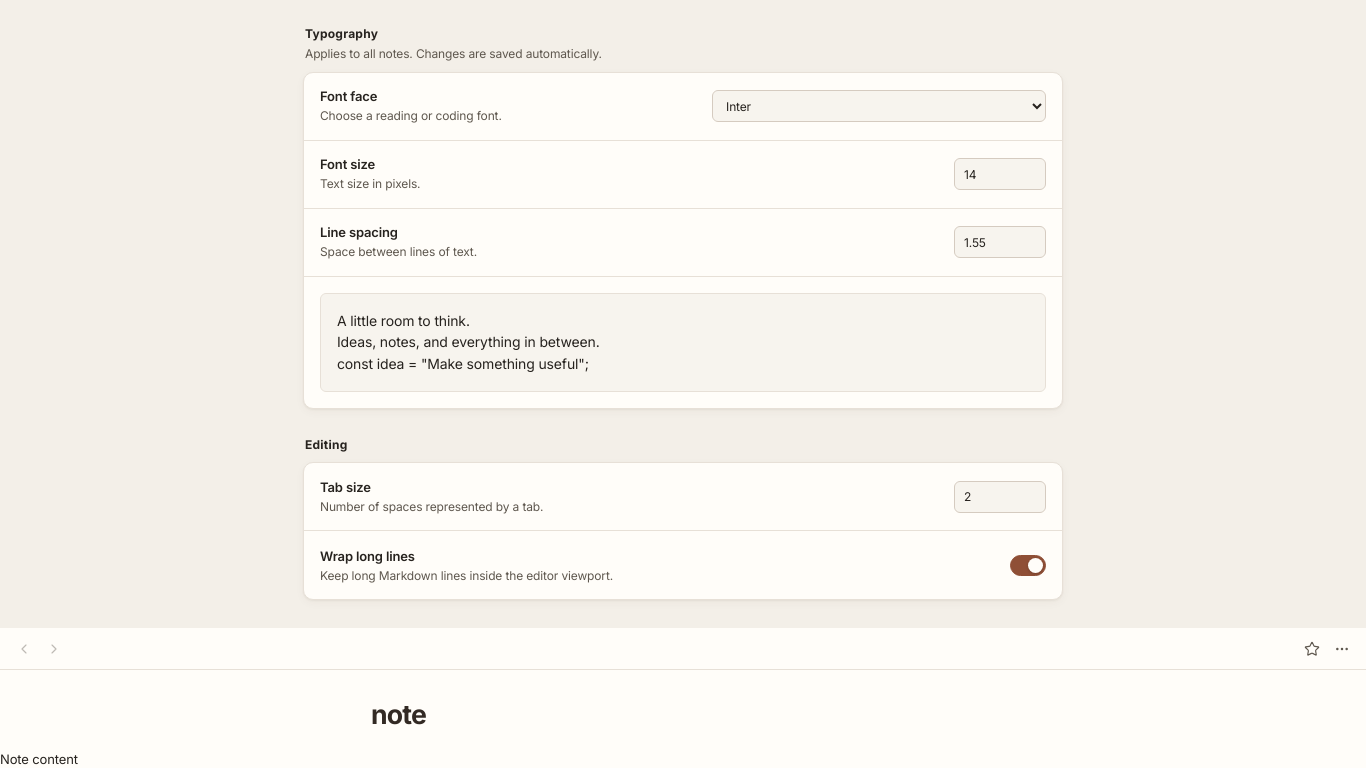
Test: Note typography › restores saved values after empty or out-of-range input without saving them
The width and height of the screenshot is (1366, 768).
(page scrolled)
Clear the number field named "Editor font size" at (1000, 174), box [954,158,1046,190]
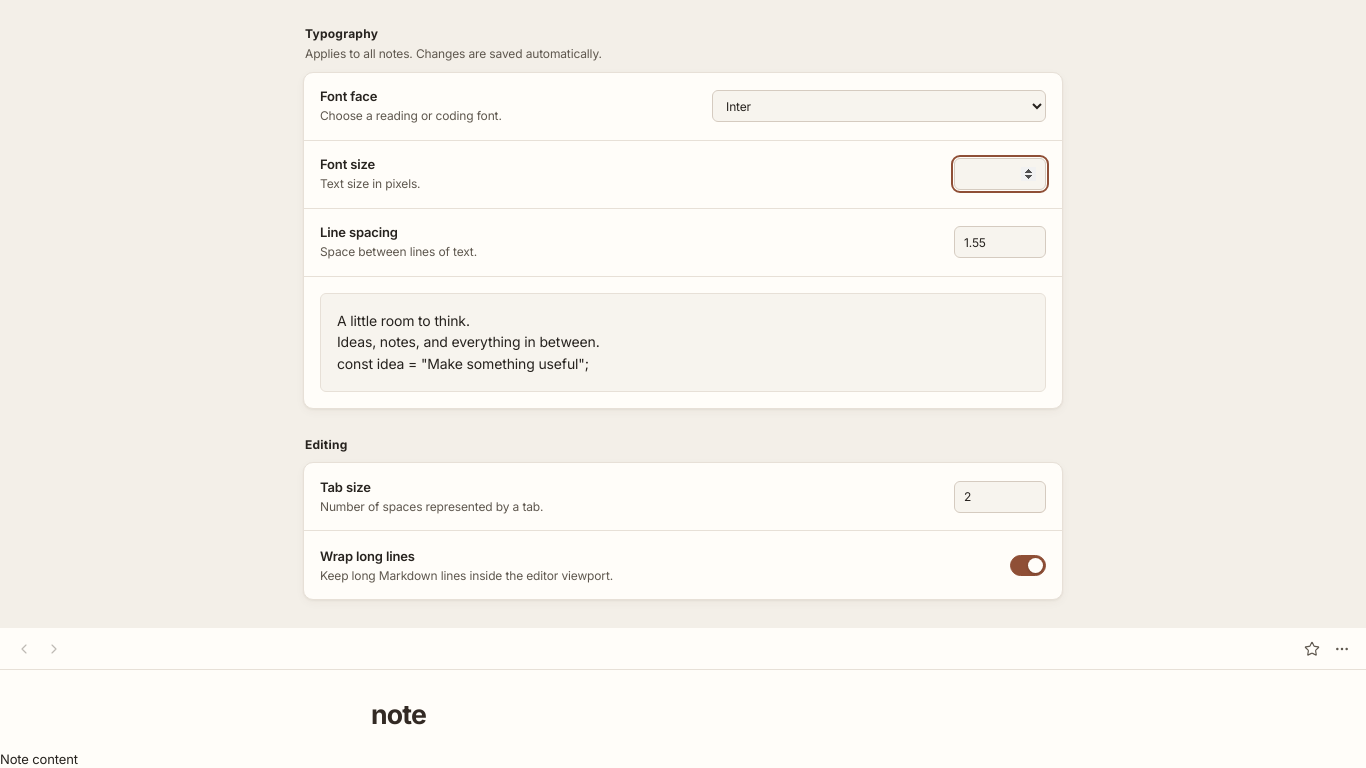
Press Tab
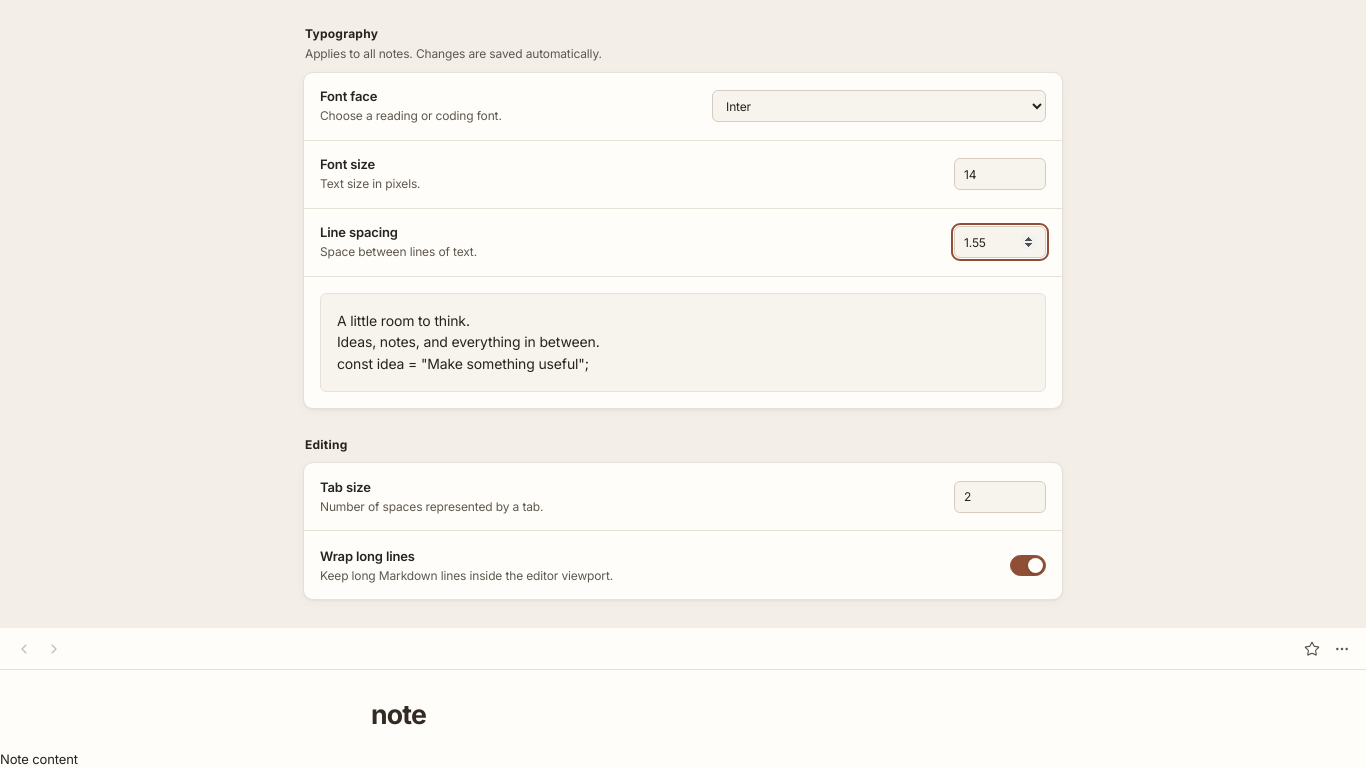
Now the number field named "Editor font size" holds "14"
Replace the text in the number field named "Editor font size" with "99" at (1000, 174), box [954,158,1046,190]
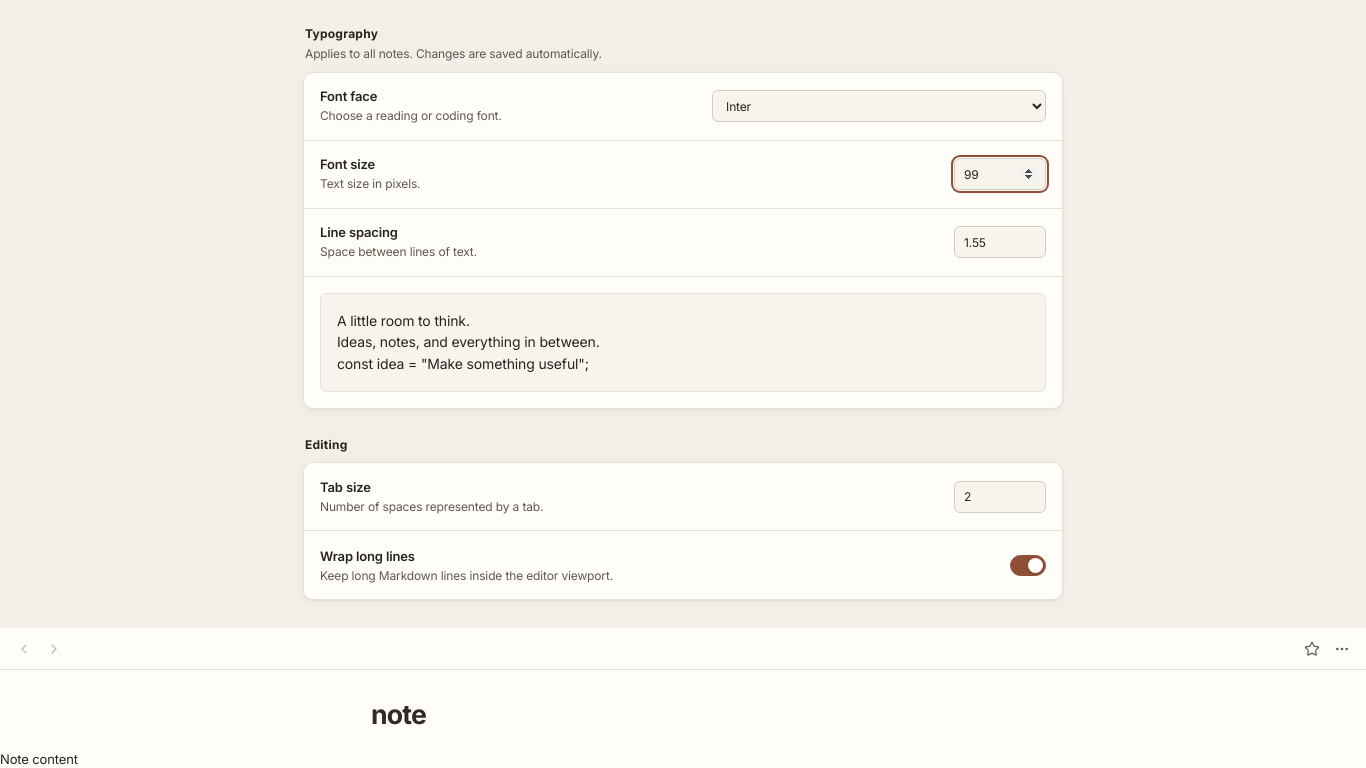
Press Tab
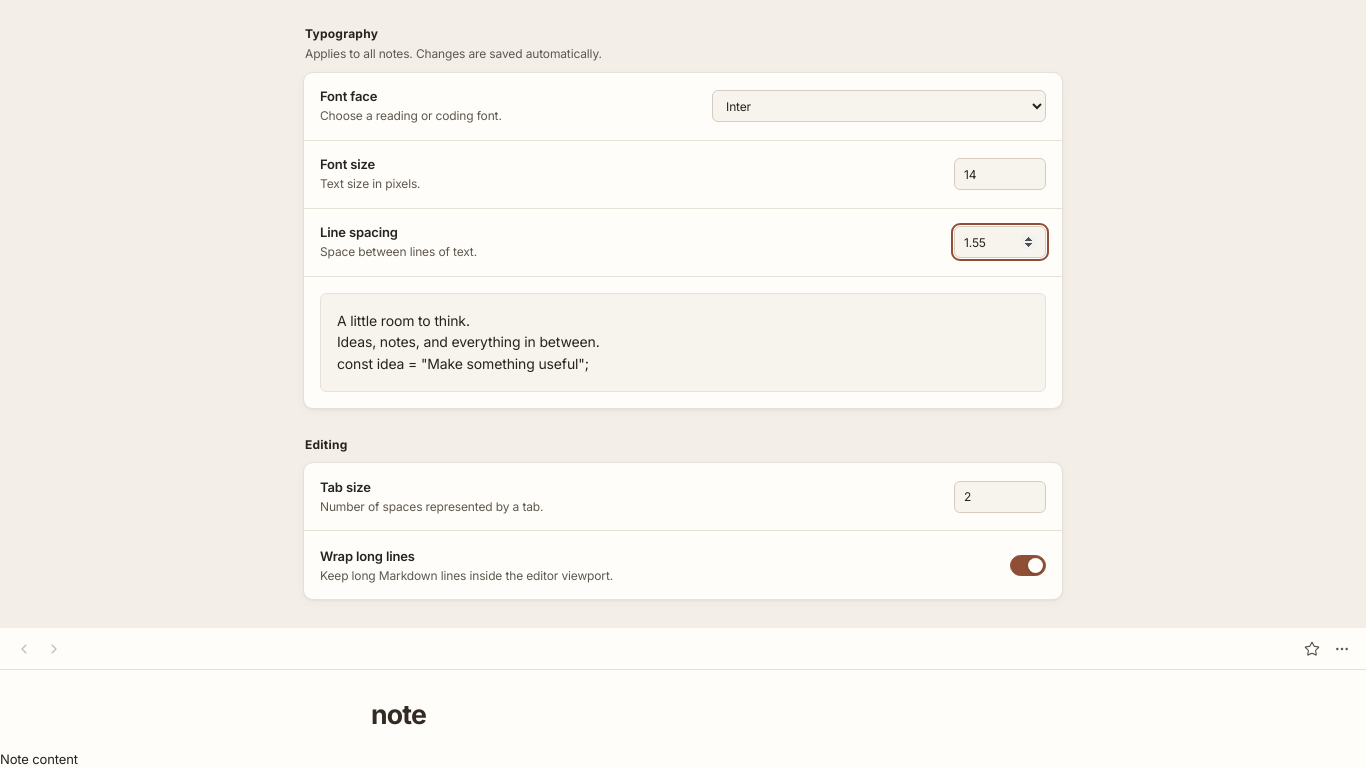
Now the number field named "Editor font size" holds "14", box [954,158,1046,190]
